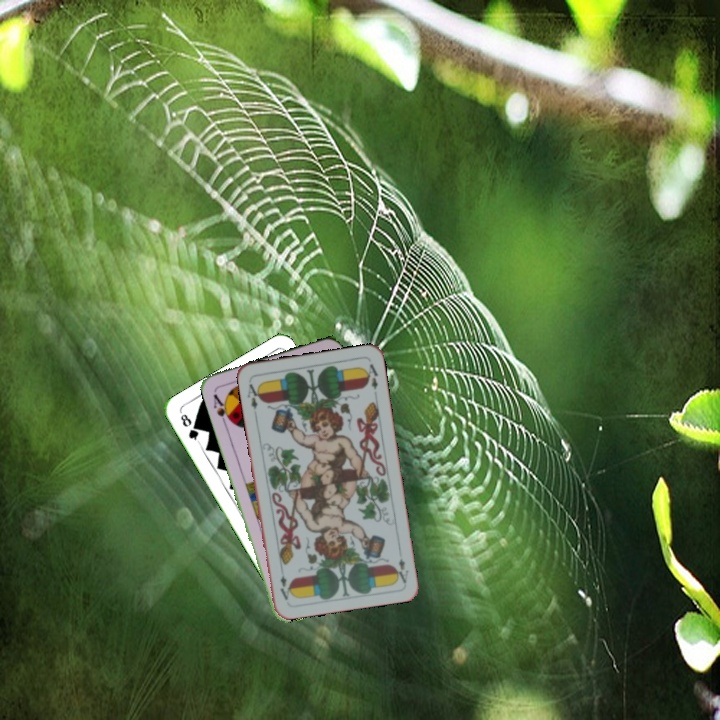EA: (391, 545, 411, 586), (243, 380, 263, 417)
G8: (176, 410, 202, 446)
SA: (209, 390, 235, 428)
